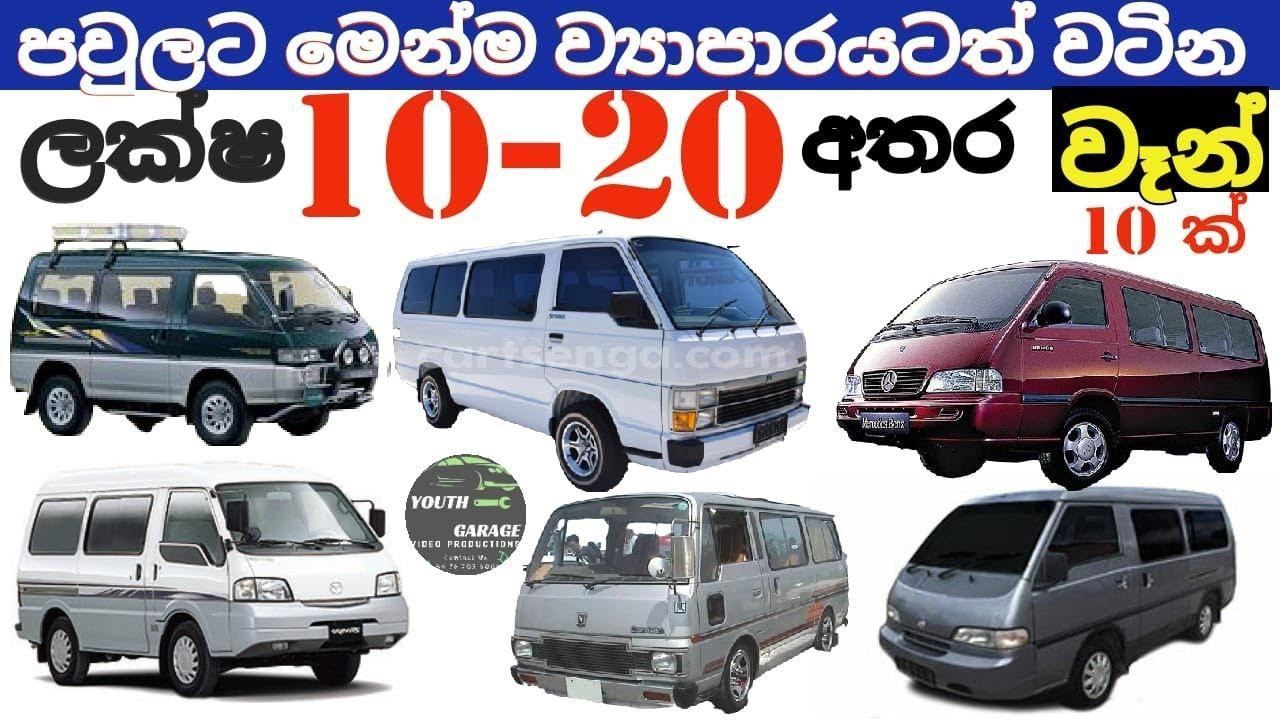car: (400, 235, 814, 490), (830, 251, 1269, 486), (20, 469, 421, 699), (18, 219, 382, 450), (878, 495, 1251, 713), (514, 495, 855, 710)
